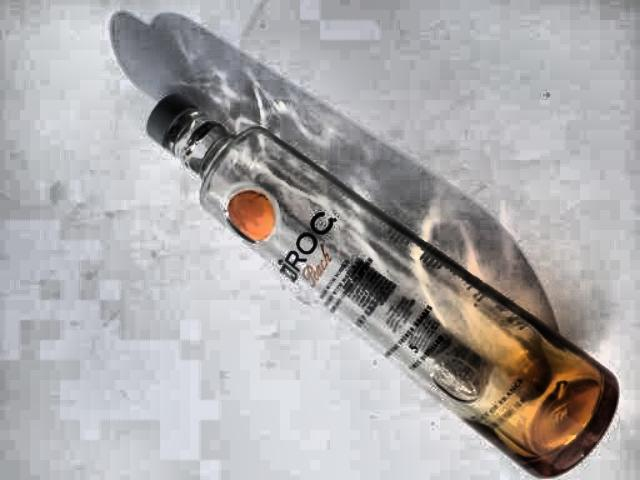Bottles: (127, 67, 622, 480)
